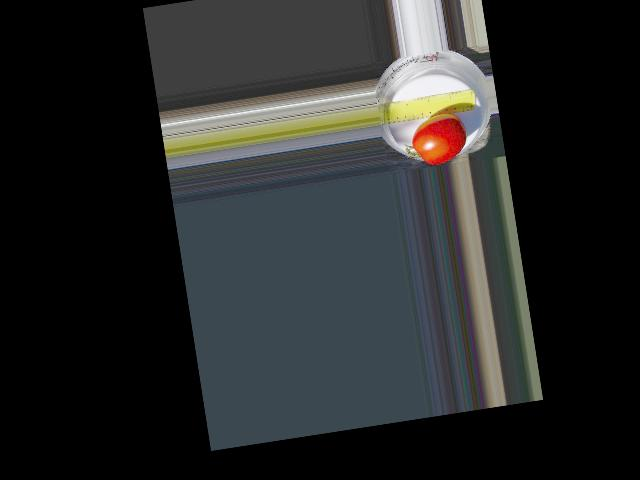tomato: (407, 110, 469, 168)
